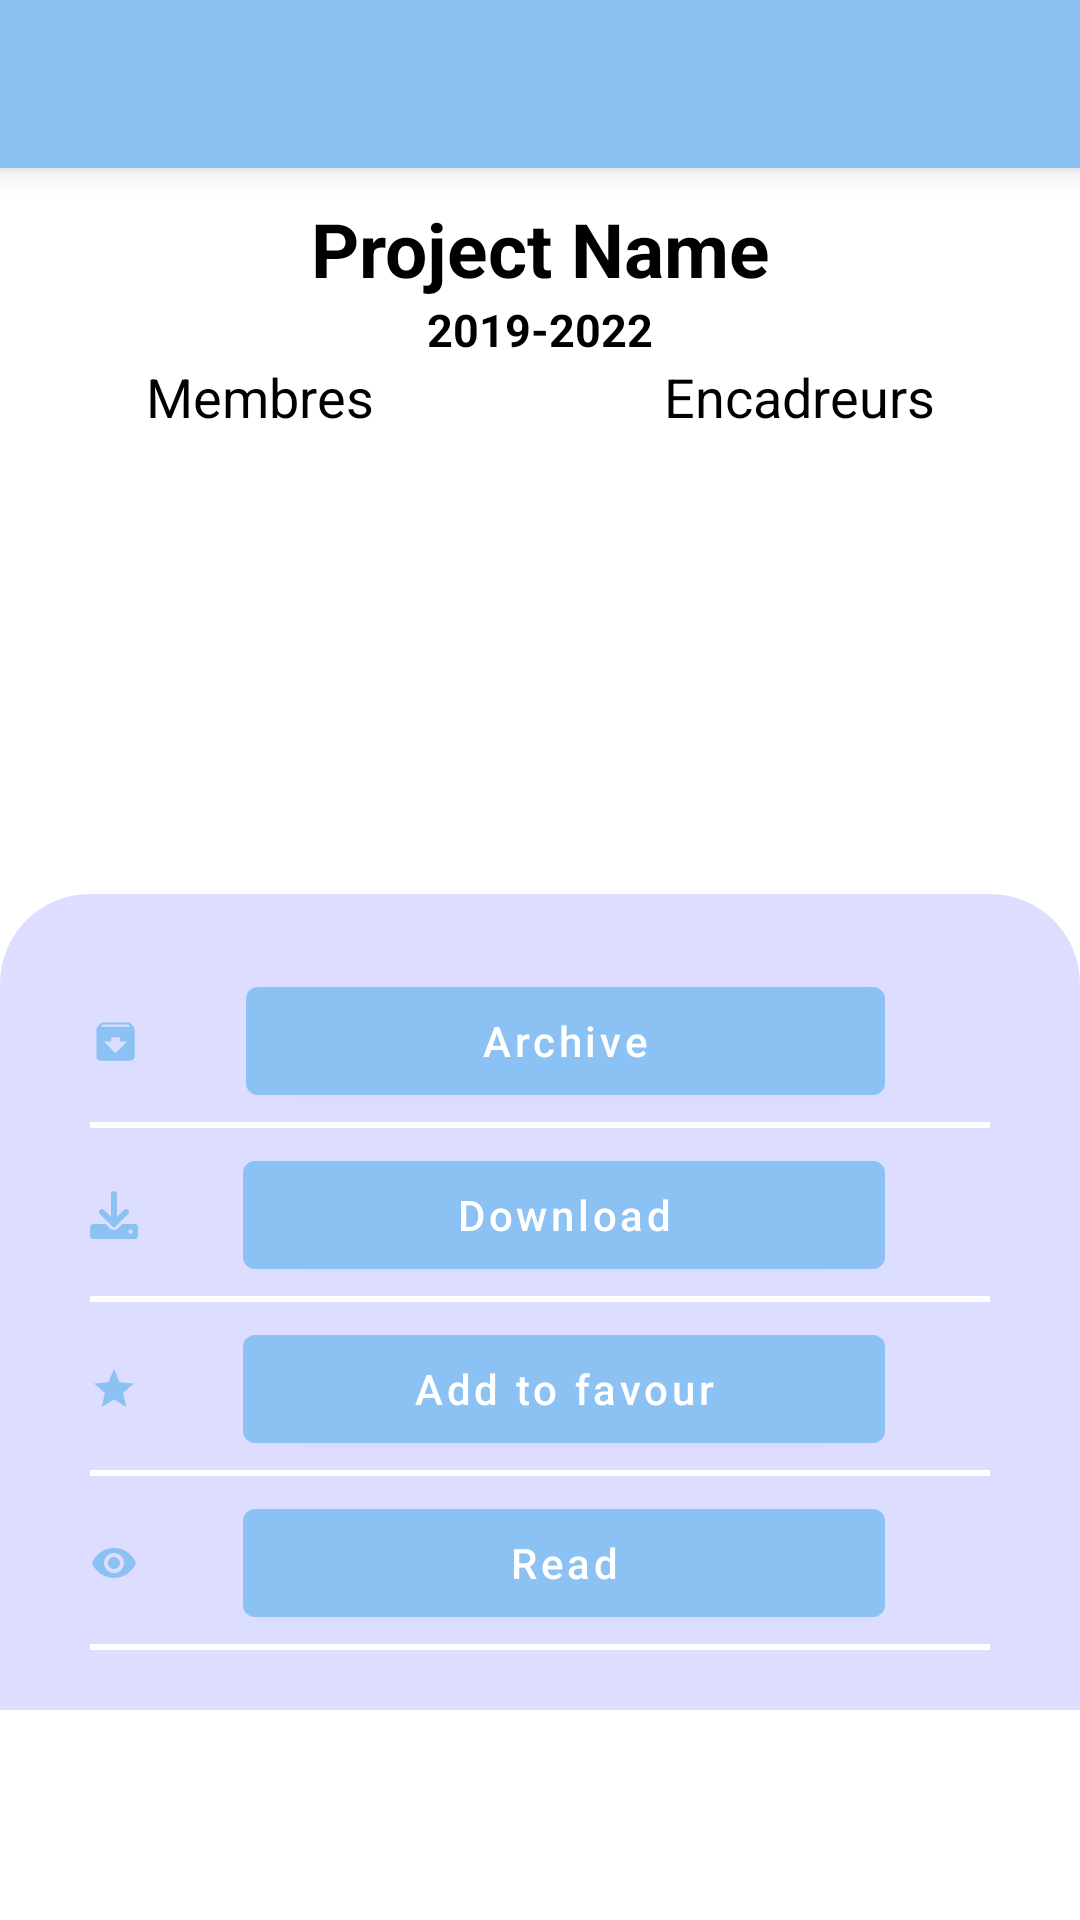

Locate icon controls on the screen. Image size 1080w x 1920h, boxes as [left=x1, top=y1, right=x2, bottom=y2].
eye: [left=92, top=1548, right=136, bottom=1578]
star: [left=94, top=1370, right=134, bottom=1407]
